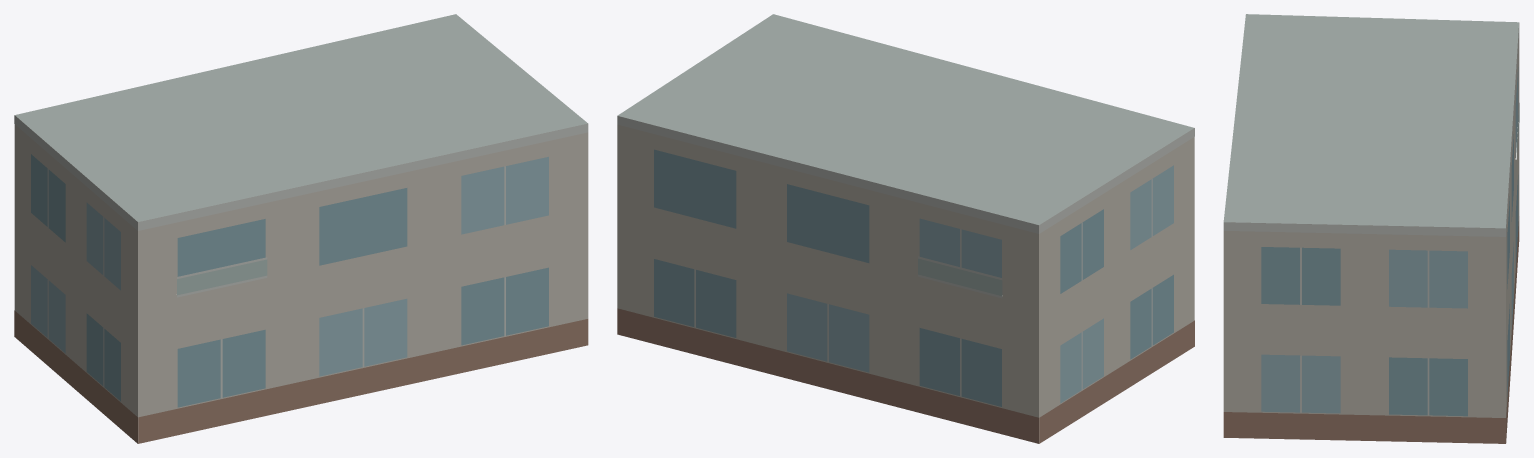
The model's file is survey-upis-32808351.glb.
3 views of the same model, side by side, from view 1: azimuth 30°, elevation 25°; view 2: azimuth 150°, elevation 25°; view 3: azimuth 270°, elevation 25° (orthographic). The views are drawn at different scales.
Visible parts, largest first — view 1: survey-upis-32808351.tmp; view 2: survey-upis-32808351.tmp; view 3: survey-upis-32808351.tmp.
Boxes of the visible parts, x1=… form: survey-upis-32808351.tmp: x1=14, y1=14, x2=588, y2=443; survey-upis-32808351.tmp: x1=617, y1=14, x2=1194, y2=443; survey-upis-32808351.tmp: x1=1223, y1=14, x2=1519, y2=443.
Size of the model in its own units: 13.02 by 6.1 by 7.6.
